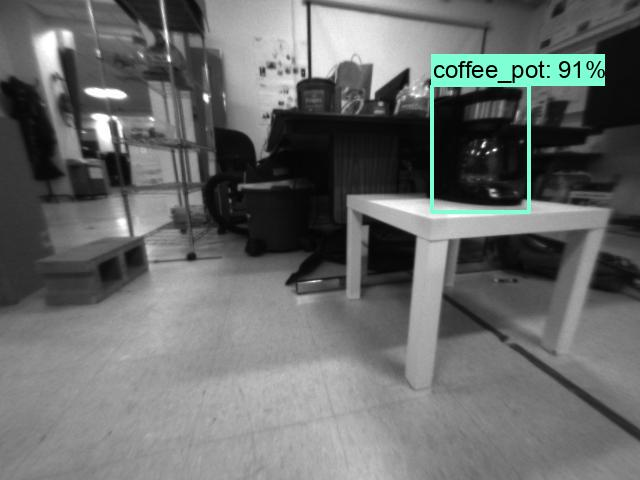coffee_pot: (432, 95, 527, 206)
